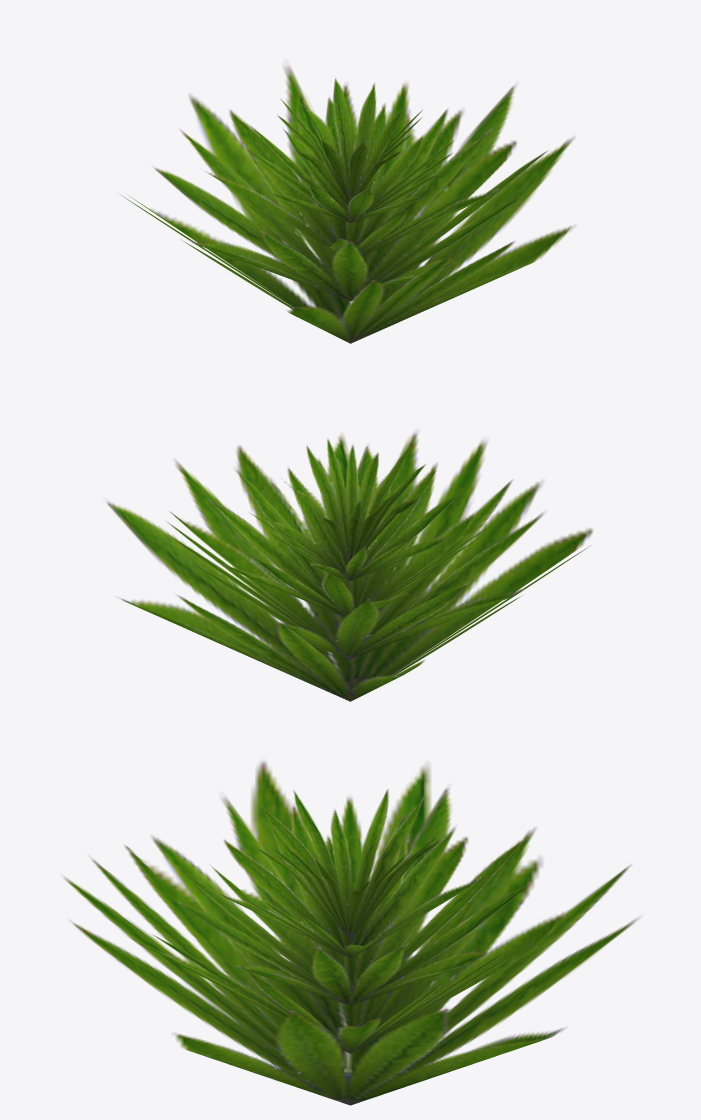
Rendered from plant-15.glb.
3 views of the same model, one above another, from view 1: azimuth 30°, elevation 25°; view 2: azimuth 150°, elevation 25°; view 3: azimuth 270°, elevation 25° (orthographic). The views are drawn at different scales.
Visible parts, largest first — view 1: Plane_107; view 2: Plane_107; view 3: Plane_107.
Part boxes in pixels (bbox=[...]): Plane_107: bbox=[118, 61, 575, 343]; Plane_107: bbox=[104, 429, 593, 701]; Plane_107: bbox=[63, 760, 640, 1105].
Size of the model in its own units: 3.9 by 1.83 by 3.9.
1 material, 1 textured.
